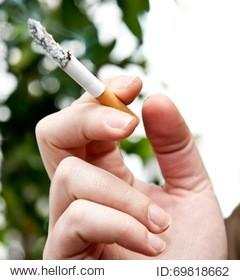Cigarette: (26, 20, 140, 128)
